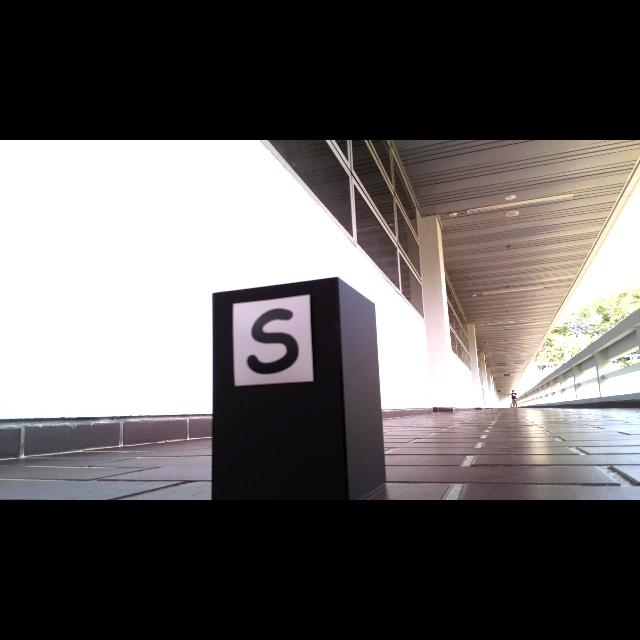S: (246, 308, 300, 375)
